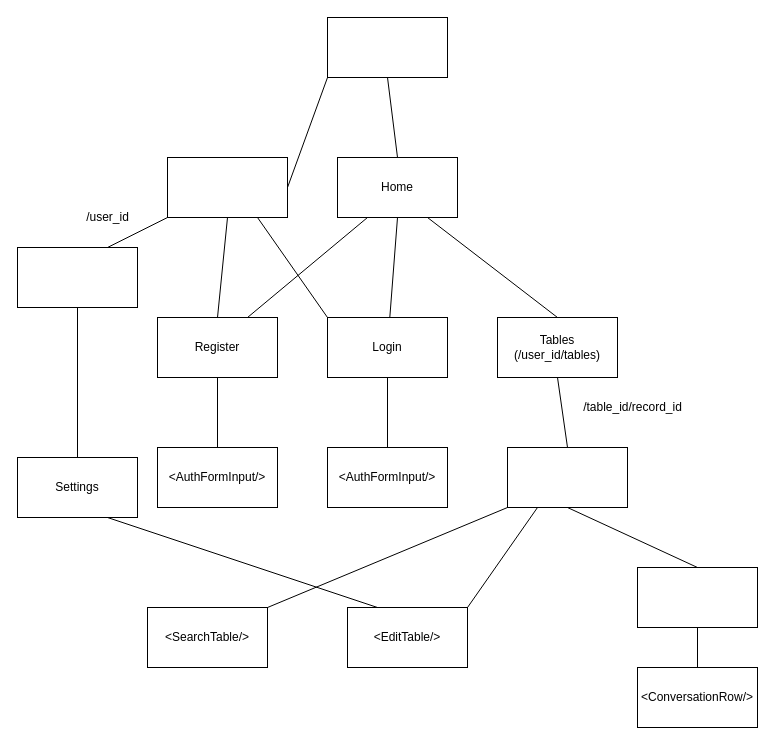
Image size: 775x745. Some labels were removed from this diagram. The shapes that lost their labels are listed below. From the top down, each one's centre as x and y in pixels, then its label:
(387,47): App
(227,187): Nav
(77,277): User
(567,477): Record
(697,597): Table
